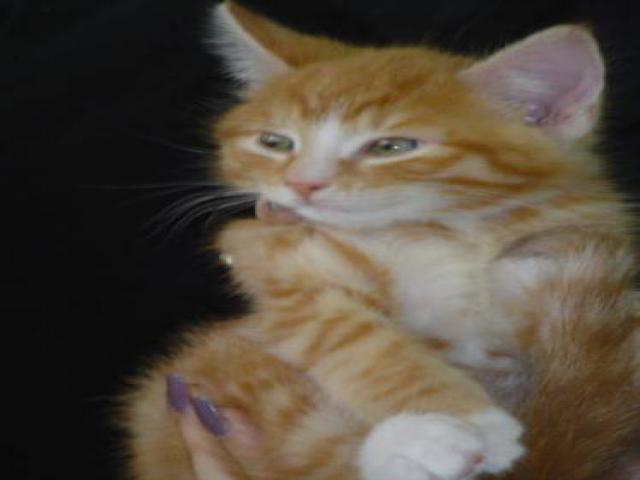cat: (93, 9, 631, 471)
